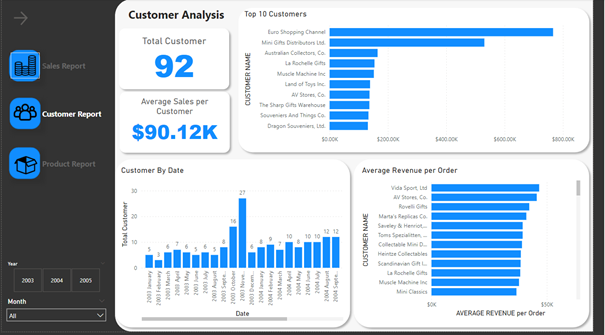

The dashboard page shown, as its layout file describes it:
{"tool":"powerbi","page":{"name":"Customer ","canvas":[1280,720],"ordinal":1},"visuals":[{"type":"shape","box":[16.2,321.2,67.5,68.8],"z":0},{"type":"shape","box":[16.4,213.6,67.3,68.2],"z":1000},{"type":"shape","box":[245,0,1035,720],"z":2000},{"type":"shape","box":[502.5,10,777.5,331.2],"z":3000},{"type":"shape","box":[236.2,337.5,526.2,382.5],"z":4000},{"type":"shape","box":[752.5,337.5,527.5,382.5],"z":5000},{"type":"actionButton","box":[83.8,108.8,160,70],"z":6000},{"type":"actionButton","box":[83.8,211.2,180,72.5],"z":7000},{"type":"actionButton","box":[83.8,321.2,160,70],"z":8000},{"type":"shape","box":[245,53.8,256.2,150],"z":9000},{"type":"textbox","box":[268.8,12.5,1011.2,61.2],"z":10000},{"type":"card","title":"Total Customer","fields":{"Values":["Measure.Total Customer"]},"box":[273.8,78.8,198.8,100],"z":11000},{"type":"barChart","title":"Top 10 Customers","fields":{"Category":["Customer.CUSTOMER NAME"],"Y":["Sum(Order_details.TOTAL SALES)"]},"box":[519.8,21.7,724.8,300.3],"z":12000},{"type":"clusteredColumnChart","title":"Customer By Date","fields":{"Category":["Date.DATE.Variation.Date Hierarchy.Year","Date.DATE.Variation.Date Hierarchy.Month"],"Y":["Measure.Total Customer"]},"box":[253.3,360.6,490.9,341.3],"z":13000},{"type":"shape","box":[566.2,0,16.2,53.8],"z":14000},{"type":"shape","box":[246.2,191.2,256.2,150],"z":15000},{"type":"card","title":"Average Sales per Customer","fields":{"Values":["Measure.Average Sales per Customer"]},"box":[263.8,211.2,220,110],"z":16000},{"type":"slicer","fields":{"Values":["Date.DATE.Variation.Date Hierarchy.Year"]},"box":[0,562.5,236.2,78.8],"z":17000},{"type":"slicer","fields":{"Values":["Date.DATE.Variation.Date Hierarchy.Month"]},"box":[0,641.4,235.7,78.6],"z":18000},{"type":"image","box":[18.8,213.8,62.5,62.5],"z":20000},{"type":"image","box":[20,325,62.5,60],"z":21000},{"type":"shape","box":[16.2,110,67.5,68.8],"z":22000},{"type":"image","box":[18.8,116.2,63.8,55],"z":23000},{"type":"clusteredBarChart","title":"Average Revenue per Order","fields":{"Category":["Customer.CUSTOMER NAME"],"Y":["Customer.AVERAGE REVENUE per Order"]},"box":[774.3,360.6,482.4,332.9],"z":24000},{"type":"actionButton","box":[20.5,21.7,100.1,39.8],"z":24001}]}

Visuals, with their boxes on the page's 1280x720 design canvas (x1, y1, x2, y2). These are canvas units, not pixel positions in the 605x335 screenshot, which may show the page scaled, cropped or inside an application window:
shape: rect(16, 321, 84, 390)
shape: rect(16, 214, 84, 282)
shape: rect(245, 0, 1280, 720)
shape: rect(502, 10, 1280, 341)
shape: rect(236, 338, 762, 720)
shape: rect(752, 338, 1280, 720)
actionButton: rect(84, 109, 244, 179)
actionButton: rect(84, 211, 264, 284)
actionButton: rect(84, 321, 244, 391)
shape: rect(245, 54, 501, 204)
textbox: rect(269, 12, 1280, 74)
"Total Customer" card: rect(274, 79, 473, 179)
"Top 10 Customers" barChart: rect(520, 22, 1245, 322)
"Customer By Date" clusteredColumnChart: rect(253, 361, 744, 702)
shape: rect(566, 0, 582, 54)
shape: rect(246, 191, 502, 341)
"Average Sales per Customer" card: rect(264, 211, 484, 321)
slicer - Date.DATE.Variation.Date Hierarchy.Year: rect(0, 562, 236, 641)
slicer - Date.DATE.Variation.Date Hierarchy.Month: rect(0, 641, 236, 720)
image: rect(19, 214, 81, 276)
image: rect(20, 325, 82, 385)
shape: rect(16, 110, 84, 179)
image: rect(19, 116, 83, 171)
"Average Revenue per Order" clusteredBarChart: rect(774, 361, 1257, 694)
actionButton: rect(20, 22, 121, 62)
